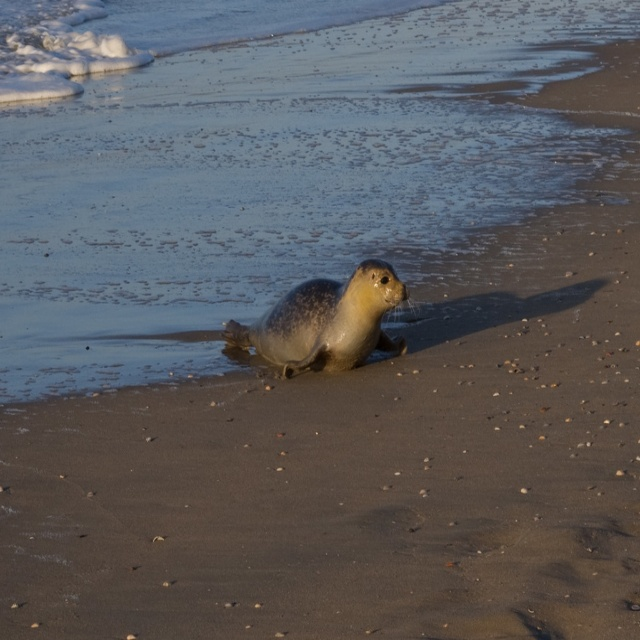Harbor seal: (226, 260, 428, 387)
